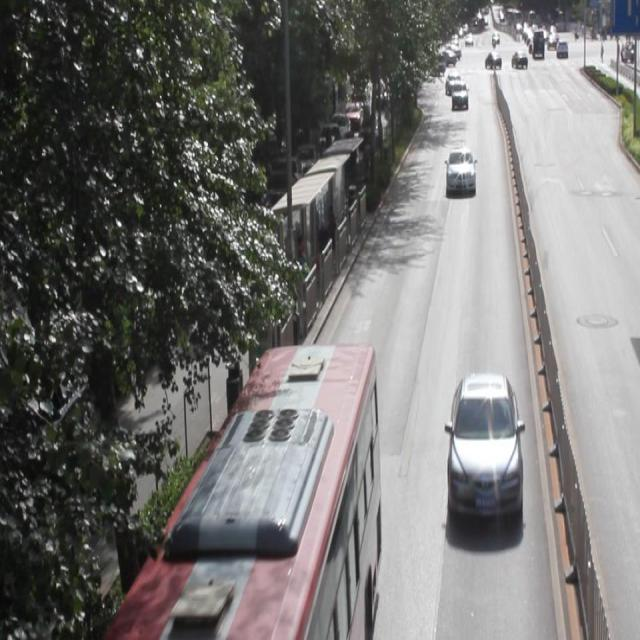car: (447, 369, 521, 523), (445, 145, 476, 195)
van: (111, 342, 376, 640)
